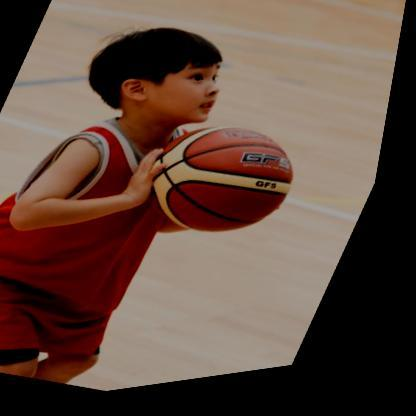basketball: (136, 109, 324, 268)
